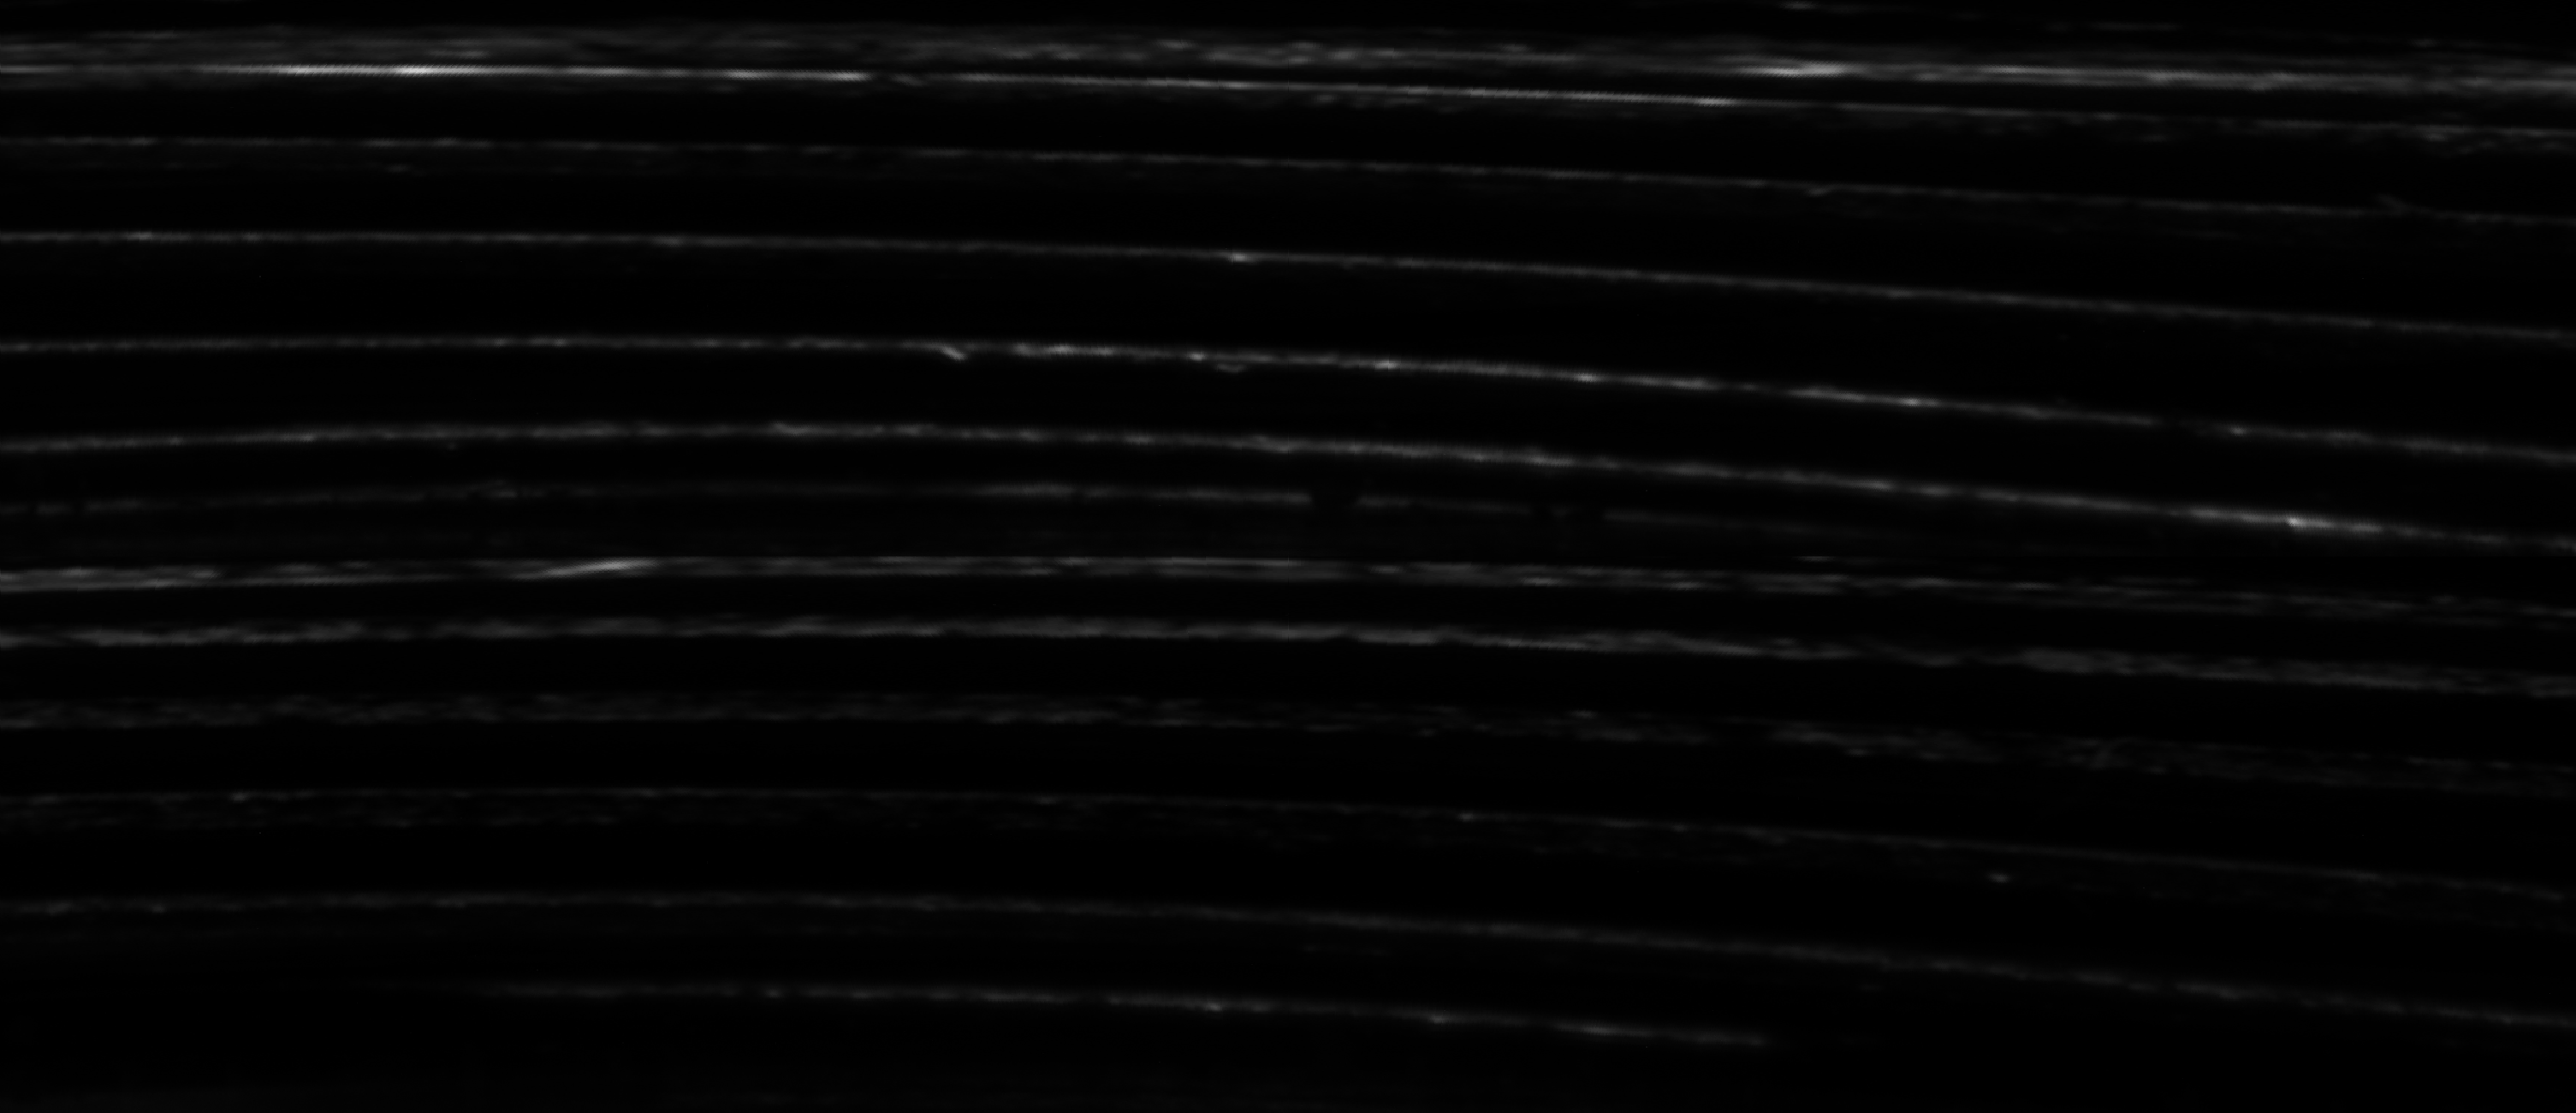extensive chipped: (38, 572, 2527, 1085), (53, 260, 2548, 580)
